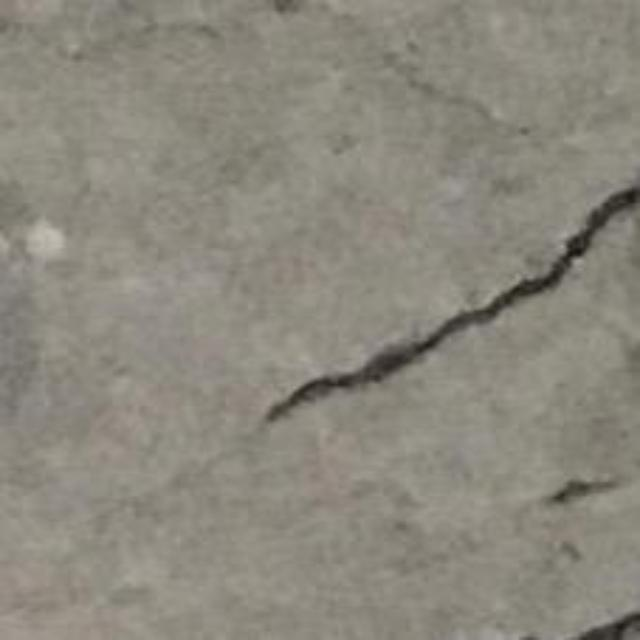crack: (266, 184, 639, 422), (545, 480, 620, 507), (576, 612, 639, 639)
